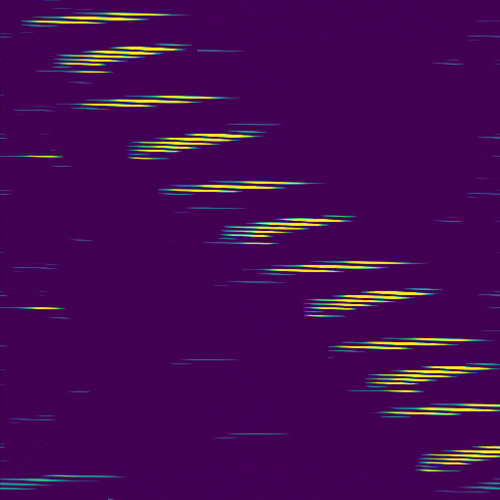semblance: (52, 41, 182, 76), (129, 129, 253, 163), (303, 288, 432, 319), (369, 364, 493, 395), (231, 214, 346, 246), (19, 9, 176, 30), (418, 444, 500, 476), (266, 257, 408, 275), (80, 92, 221, 110), (335, 334, 473, 352), (164, 179, 309, 196), (383, 401, 500, 417)
